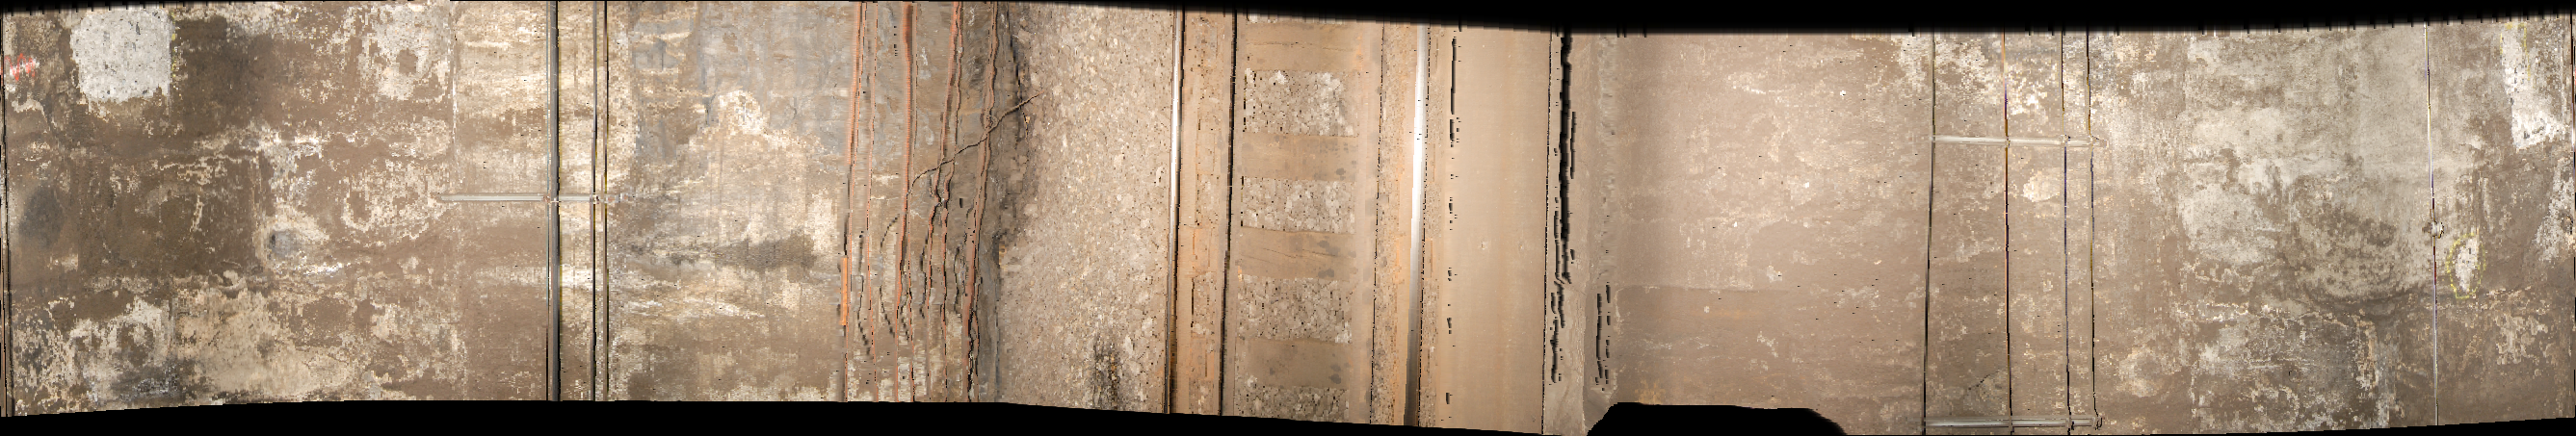pipes: (849, 2, 1010, 433), (542, 7, 616, 421), (2057, 43, 2101, 436), (1994, 31, 2026, 436), (1920, 34, 1943, 436)
tracks: (1170, 13, 1456, 436)
